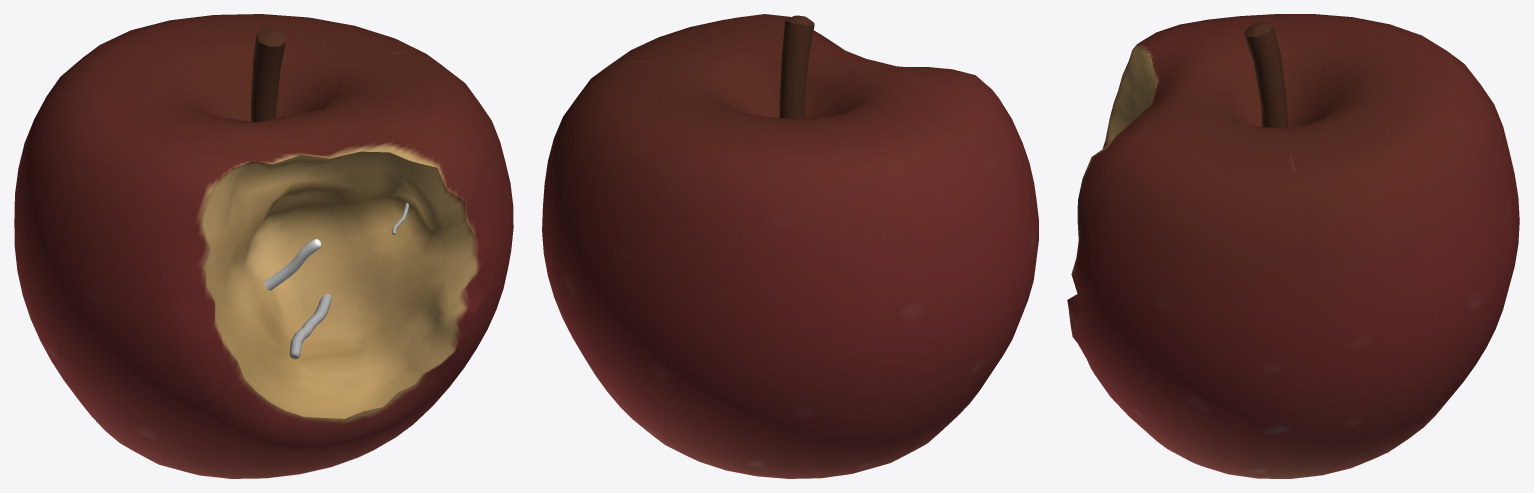
File: RottenApple.fbx
3 renders of one model, left to right at view 1: azimuth 30°, elevation 25°; view 2: azimuth 150°, elevation 25°; view 3: azimuth 270°, elevation 25°, orthographic.
Visible parts, largest first — view 1: flesh, stem, Apple_Worm1, Apple_Worm; view 2: flesh, stem; view 3: flesh, stem.
Boxes of the visible parts, x1,y1,x2,y2 form: flesh: (14, 14, 513, 478); stem: (251, 28, 285, 122); Apple_Worm1: (289, 294, 331, 359); Apple_Worm: (264, 239, 321, 290); flesh: (542, 14, 1038, 478); stem: (779, 15, 814, 118); flesh: (1067, 14, 1519, 478); stem: (1244, 22, 1287, 128).
Size of the model in its own units: 3.01 by 2.74 by 2.75.
